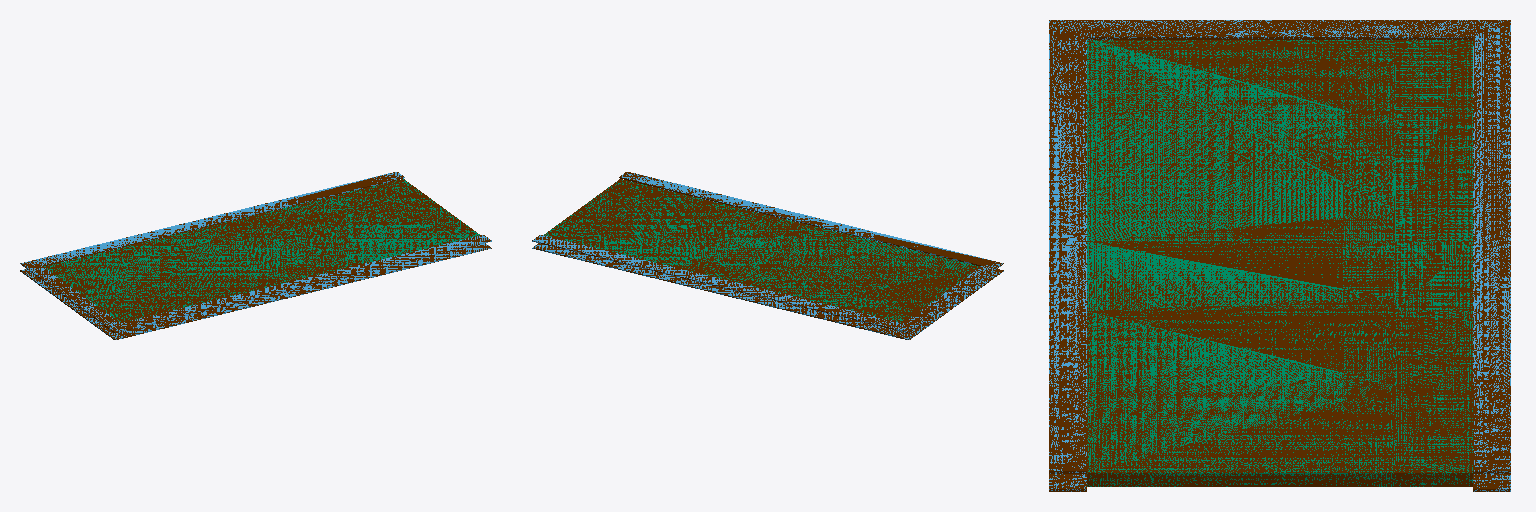
The robot description file, URDF, robot "right-pull-door":
<?xml version="1.0" ?>
<robot name="right-pull-door">
	<link name="base"/>
	<link name="link_0">
		<visual name="out-frame">
			<origin xyz="0 0 0"/>
			<geometry>
				<mesh filename="texture_dae/frame.dae" scale="0.8837270872727645 0.8837270872727645 0.8837270872727645"/>
			</geometry>
		</visual>
		<collision>
			<origin xyz="0 0 0"/>
			<geometry>
				<mesh filename="texture_dae/frame.dae" scale="0.8837270872727645 0.8837270872727645 0.8837270872727645"/>
			</geometry>
		</collision>
	</link>
	<joint name="joint_0" type="fixed">
		<origin rpy="1.570796326794897 0 -1.570796326794897" xyz="0 0 0"/>
		<child link="link_0"/>
		<parent link="base"/>
	</joint>
	<link name="link_1">
		<visual name="surf-board">
			<origin xyz="0.33678483597120745 -0.8826866484217946 0"/>
			<geometry>
				<mesh filename="texture_dae/board.dae" scale="0.8837270872727645 0.8837270872727645 0.8837270872727645"/>
			</geometry>
		</visual>
		<collision>
			<origin xyz="0.33678483597120745 -0.8826866484217946 0"/>
			<geometry>
				<mesh filename="texture_dae/board.dae" scale="0.8837270872727645 0.8837270872727645 0.8837270872727645"/>
			</geometry>
		</collision>
	</link>
	<joint name="joint_1" type="revolute">
		<origin xyz="-0.33678483597120745 0.8826866484217946 0"/>
		<axis xyz="0 -1 0"/>
		<child link="link_1"/>
		<parent link="link_0"/>
		<limit lower="0" upper="1.5079644737231006"/>
	</joint>
	<link name="link_2">
		<visual name="handle">
			<origin xyz="0 0 0"/>
			<geometry>
				<mesh filename="texture_dae/9960022.dae" scale="1.3242535668225608 1.3242535668225608 1.3242535668225608"/>
			</geometry>
		</visual>
		<collision>
			<origin xyz="0 0 0"/>
			<geometry>
				<mesh filename="texture_dae/9960022.dae" scale="1.3242535668225608 1.3242535668225608 1.3242535668225608"/>
			</geometry>
		</collision>
	</link>
	<joint name="joint_2" type="revolute">
		<origin xyz="0.5934000323636804 -0.9957334196364709 0.013949457871978412"/>
		<child link="link_2"/>
		<parent link="link_1"/>
		<axis xyz="0 0 1"/>
		<limit lower="0" upper="1.5079644737231006"/>
	</joint>
</robot>

--- What the picture shows (computed from the rendered views, not written in the file) ---
The picture shows the robot from 3 angles, left to right: view 1: azimuth 30°, elevation 25°; view 2: azimuth 150°, elevation 25°; view 3: azimuth 270°, elevation 25°; orthographic projection.
Model right-pull-door with 4 links and 3 joints (2 revolute, 1 fixed), rooted at base, posed every joint at zero.
Links seen in each view (by area): view 1: link_1, link_0; view 2: link_1, link_0; view 3: link_1, link_0.
Boxes of the visible links, x1=… form: link_1: x1=44, y1=179, x2=479, y2=322; link_0: x1=20, y1=172, x2=491, y2=339; link_1: x1=544, y1=179, x2=979, y2=322; link_0: x1=532, y1=172, x2=1003, y2=339; link_1: x1=1087, y1=40, x2=1472, y2=486; link_0: x1=1049, y1=20, x2=1510, y2=491.
Bounding box of the posed robot: 1.86 × 0.8081 × 0.0393 m (x, y, z).
Meshes: 3 distinct files referenced, 2 mesh visuals loaded (2 Collada DAE); not drawn: 1 (file found but could not be loaded).
